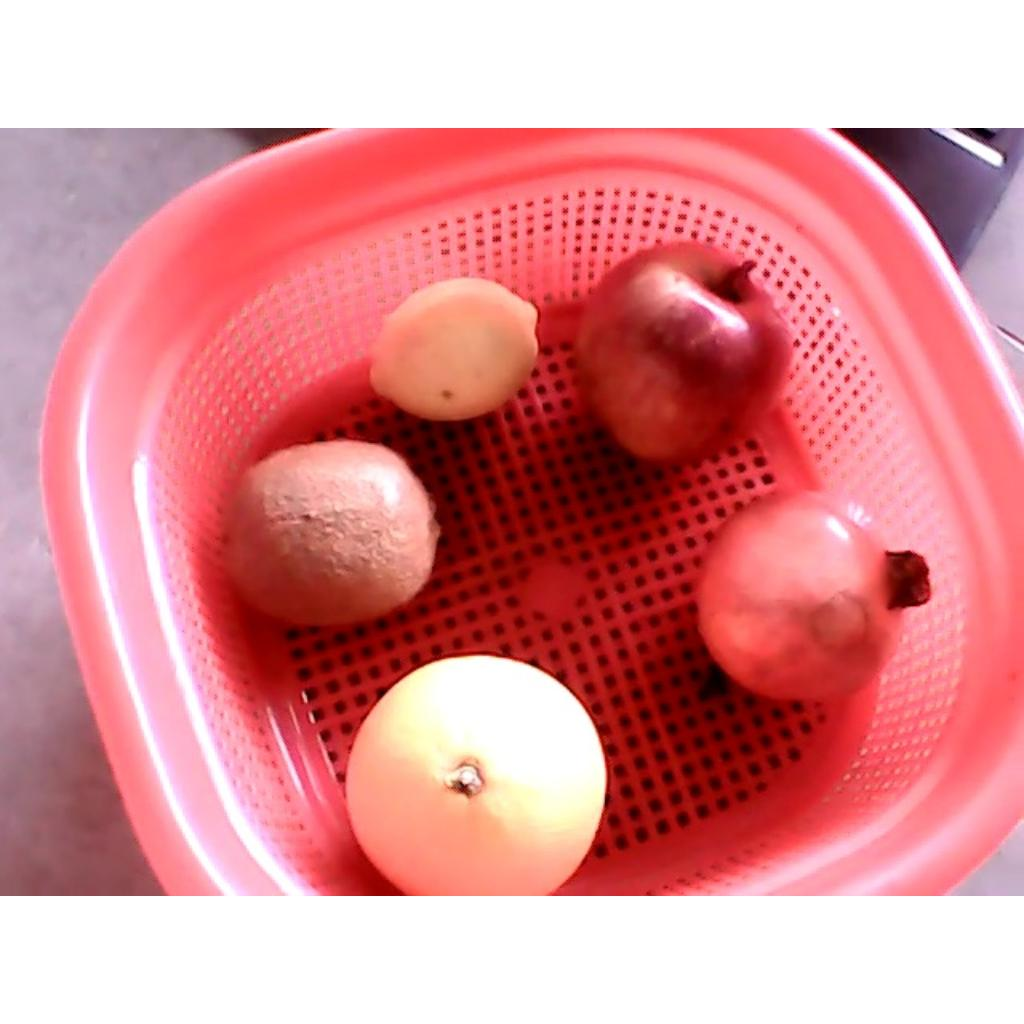apple: (576, 241, 799, 466)
kiwi: (221, 439, 442, 626)
lemon: (369, 276, 540, 421)
orange: (344, 652, 604, 894)
pomegranate: (695, 490, 931, 702)
